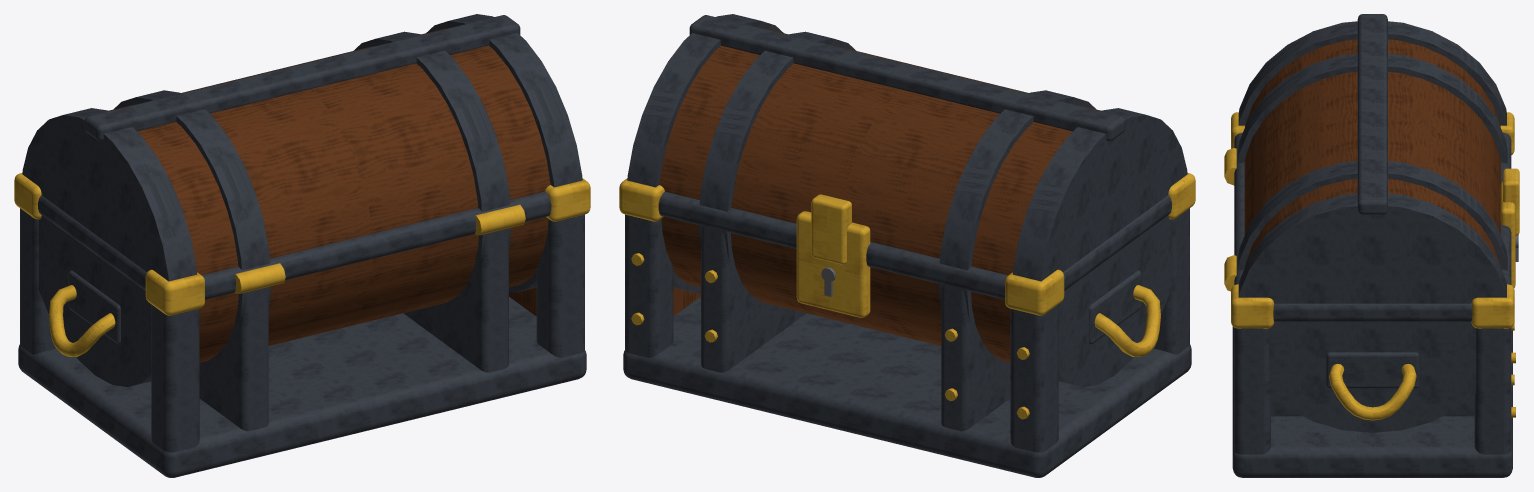
The model's file is treasure_chest.glb.
3 renders of one model, left to right at view 1: azimuth 30°, elevation 25°; view 2: azimuth 150°, elevation 25°; view 3: azimuth 270°, elevation 25°, orthographic. The views are drawn at different scales.
Visible parts, largest first — view 1: vaulted_barrel_lid_core, chest_base_plinth_front, lid_iron_arch_right, lid_crest_spine_bar, chest_upper_rim_band, iron_strap_vertical_left, iron_corner_pillar_fr, iron_strap_vertical_right, lid_iron_arch_mid_left, lid_iron_arch_mid_right, iron_corner_pillar_fl, lid_iron_arch_left (+8 smaller); view 2: vaulted_barrel_lid_core, chest_base_plinth_front, lid_iron_arch_right, lid_crest_spine_bar, chest_upper_rim_band, iron_strap_vertical_left, lid_iron_arch_mid_right, lid_iron_arch_mid_left, iron_corner_pillar_br, iron_strap_vertical_right, lid_iron_arch_left, iron_corner_pillar_bl (+8 smaller); view 3: lid_iron_arch_left, vaulted_barrel_lid_core, chest_base_plinth_front, lid_crest_spine_bar, chest_upper_rim_band, lid_iron_arch_mid_left, lid_iron_arch_mid_right, lid_iron_arch_right, iron_corner_pillar_bl, iron_corner_pillar_fl, handle_mount_plate_left, side_carry_handle_left (+7 smaller).
Part boxes in pixels (box(x1,y1,x2,y2)): vaulted_barrel_lid_core: box(108, 28, 550, 362); chest_base_plinth_front: box(18, 297, 586, 477); lid_iron_arch_right: box(22, 108, 197, 386); lid_crest_spine_bar: box(84, 15, 520, 141); chest_upper_rim_band: box(38, 191, 551, 299); iron_strap_vertical_left: box(403, 228, 508, 372); iron_corner_pillar_fr: box(151, 304, 199, 452); iron_strap_vertical_right: box(199, 287, 268, 431); lid_iron_arch_mid_left: box(353, 31, 510, 310); lid_iron_arch_mid_right: box(113, 90, 270, 369); iron_corner_pillar_fl: box(536, 214, 584, 357); lid_iron_arch_left: box(426, 14, 582, 292); vaulted_barrel_lid_core: box(659, 28, 1101, 362); chest_base_plinth_front: box(623, 297, 1191, 477); lid_iron_arch_right: box(1012, 108, 1187, 386); lid_crest_spine_bar: box(689, 15, 1125, 141); chest_upper_rim_band: box(658, 191, 1171, 299); iron_strap_vertical_left: box(701, 225, 806, 372); lid_iron_arch_mid_right: box(938, 90, 1096, 369); lid_iron_arch_mid_left: box(698, 31, 856, 310); iron_corner_pillar_br: box(1010, 304, 1058, 452); iron_strap_vertical_right: box(941, 284, 1010, 431); lid_iron_arch_left: box(627, 14, 783, 292); iron_corner_pillar_bl: box(625, 214, 673, 357); lid_iron_arch_left: box(1238, 193, 1506, 432); vaulted_barrel_lid_core: box(1244, 39, 1500, 266); chest_base_plinth_front: box(1232, 326, 1512, 477); lid_crest_spine_bar: box(1357, 14, 1387, 214); chest_upper_rim_band: box(1234, 132, 1511, 321); lid_iron_arch_mid_left: box(1238, 161, 1507, 270); lid_iron_arch_mid_right: box(1238, 53, 1507, 163); lid_iron_arch_right: box(1238, 21, 1506, 125); iron_corner_pillar_bl: box(1474, 328, 1511, 454); iron_corner_pillar_fl: box(1234, 328, 1270, 454); handle_mount_plate_left: box(1326, 352, 1419, 388); side_carry_handle_left: box(1329, 364, 1416, 420).
Bounding box in the file's own units: 1.54 × 0.925 × 0.885.
4 materials, 3 textured.
